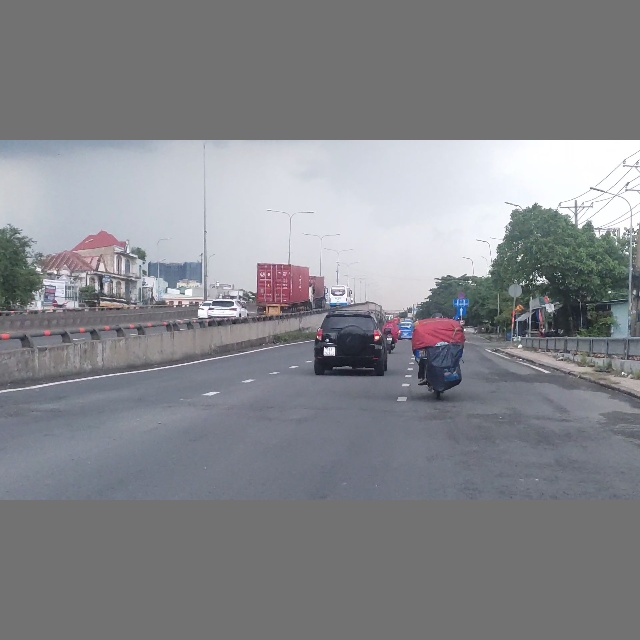I.407a: (457, 306, 466, 316)
P.130: (458, 292, 465, 299)
